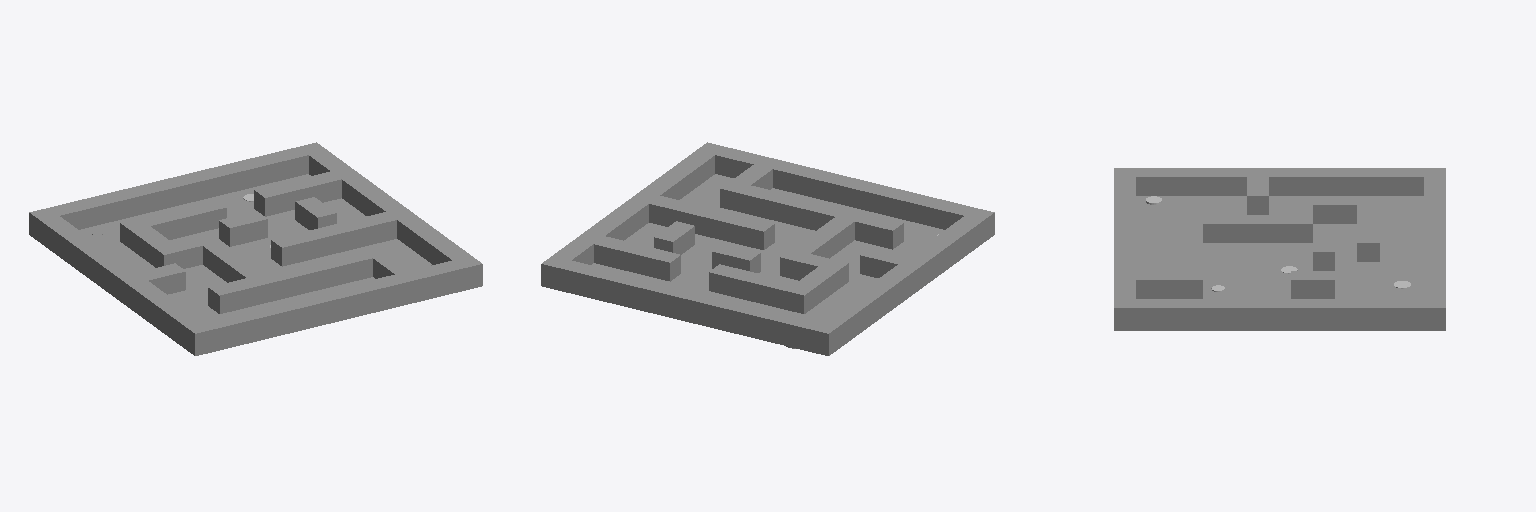
The model's file is holeboard.obj.
3 views of the same model, side by side, from view 1: azimuth 30°, elevation 25°; view 2: azimuth 150°, elevation 25°; view 3: azimuth 270°, elevation 25° (orthographic).
Parts seen in each view (by area): view 1: Cube; view 2: Cube; view 3: Cube.
Part boxes in pixels (x1,y1,x2,y2): Cube: (29, 142, 482, 355); Cube: (541, 142, 994, 355); Cube: (1114, 168, 1445, 330).
Bounding box in the file's own units: 16 × 1.9 × 16.